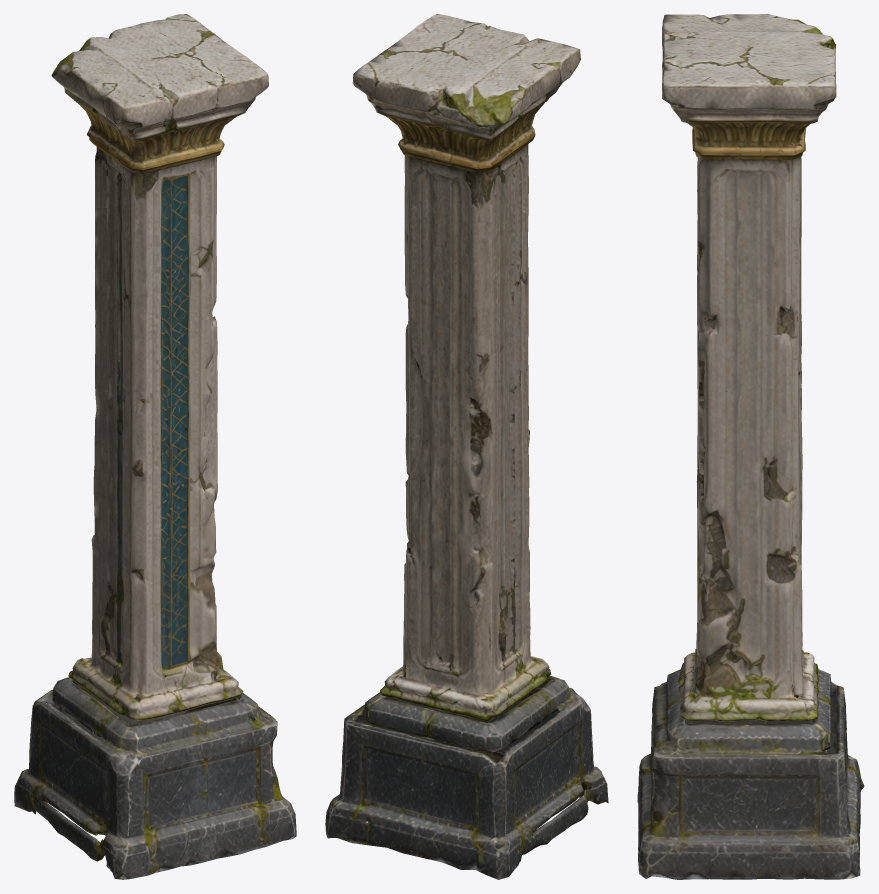
The model's file is source.glb.
3 views of the same model, side by side, from view 1: azimuth 30°, elevation 25°; view 2: azimuth 150°, elevation 25°; view 3: azimuth 270°, elevation 25° (orthographic). The views are drawn at different scales.
Visible parts, largest first — view 1: texture_mapping; view 2: texture_mapping; view 3: texture_mapping.
Boxes of the visible parts, x1,y1,x2,y2 form: texture_mapping: [14, 14, 296, 879]; texture_mapping: [325, 14, 608, 879]; texture_mapping: [637, 14, 864, 879].
Bounding box in the file's own units: 0.2532 × 1.01 × 0.2629.
1 material, 1 textured.
